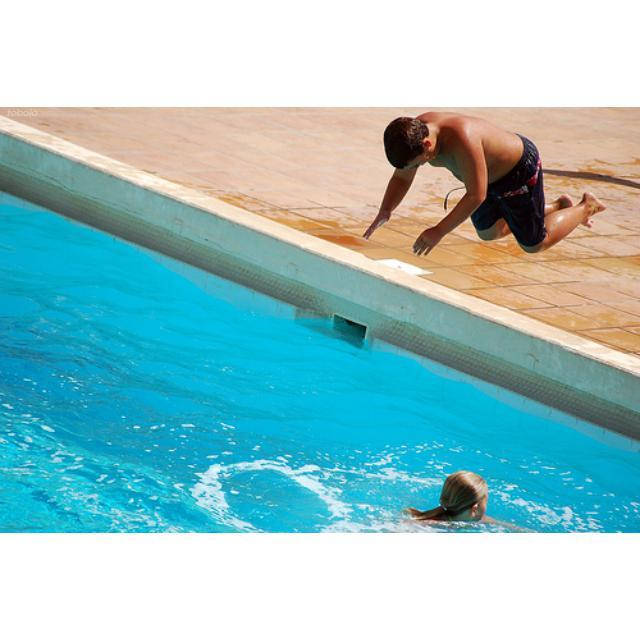human: (381, 110, 605, 261), (416, 465, 510, 531)
